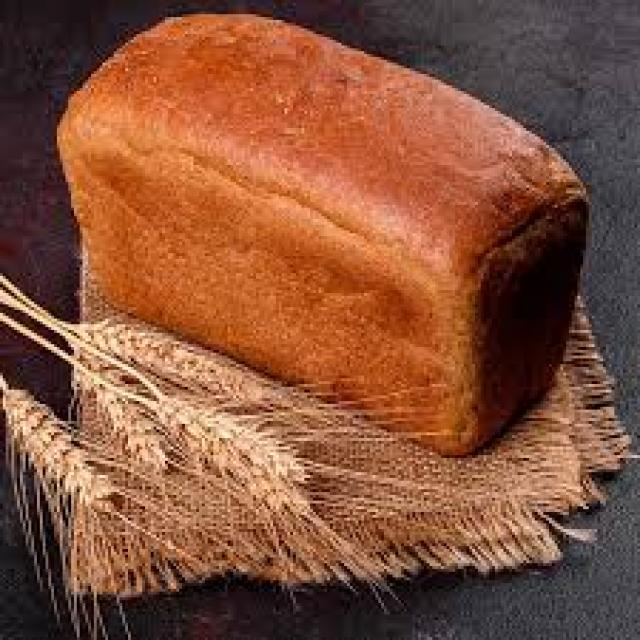bread: (59, 14, 585, 458)
